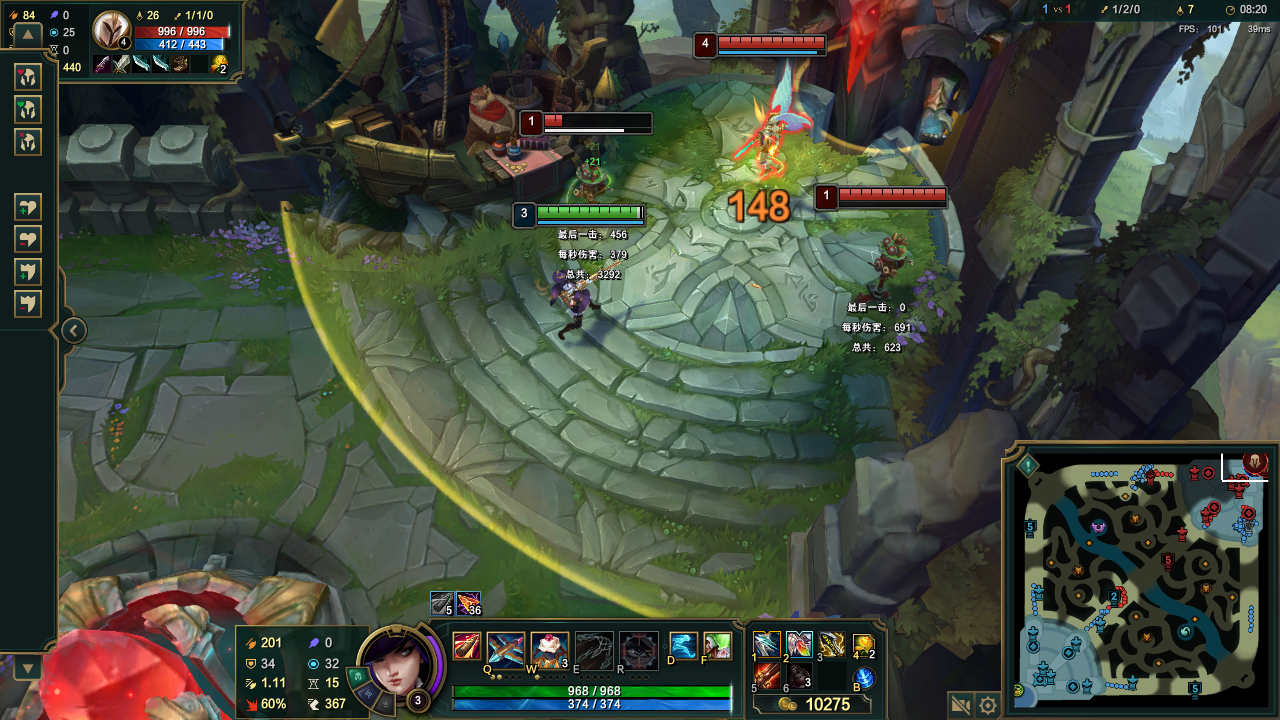DFYX: (838, 186, 946, 203), (539, 112, 649, 125), (716, 35, 825, 44)
